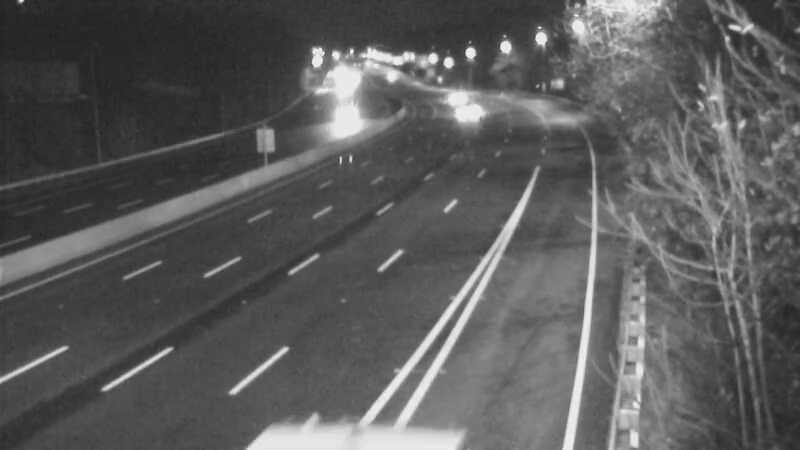vehicle: (424, 70, 474, 120), (438, 84, 488, 134), (322, 103, 372, 153)
